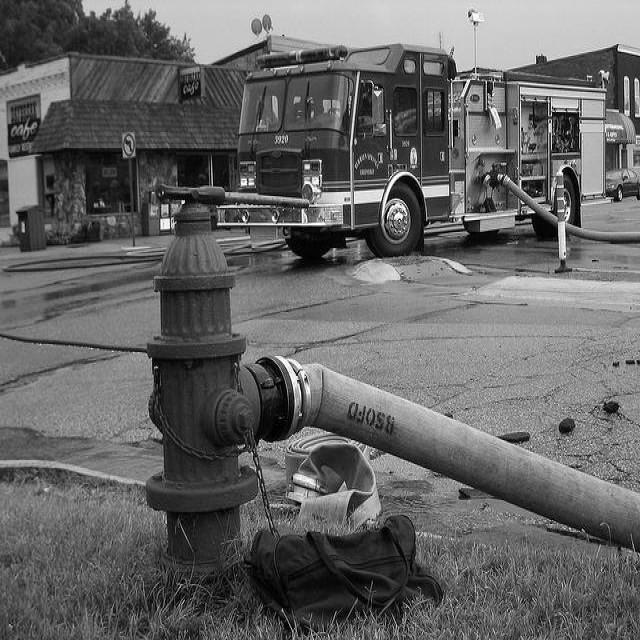vehicle: (233, 44, 609, 248), (606, 170, 640, 203)
